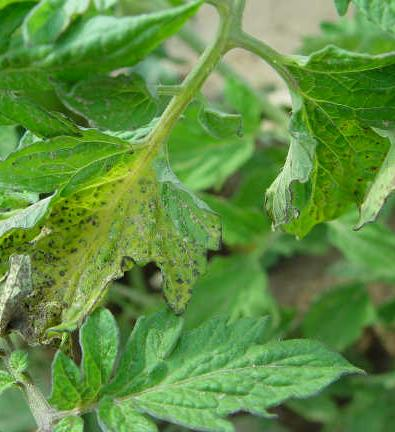Tomato leaf bacterial spot: (0, 112, 223, 356), (31, 291, 364, 432), (248, 16, 395, 274)
